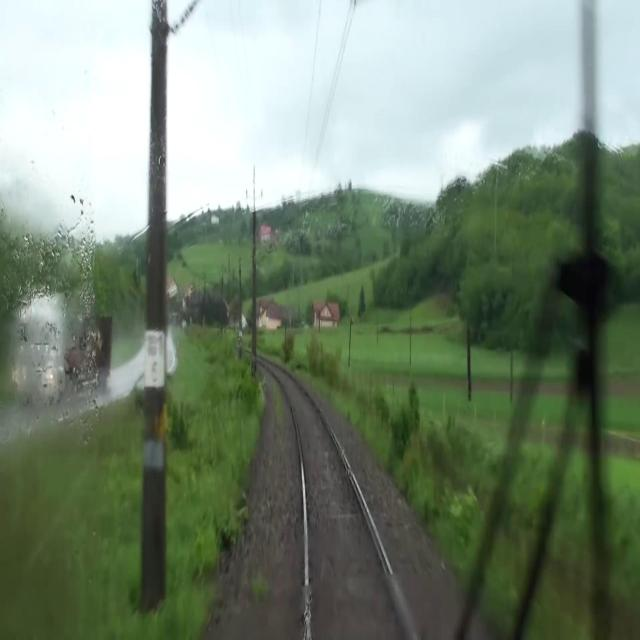rail-track: (264, 361, 412, 639)
